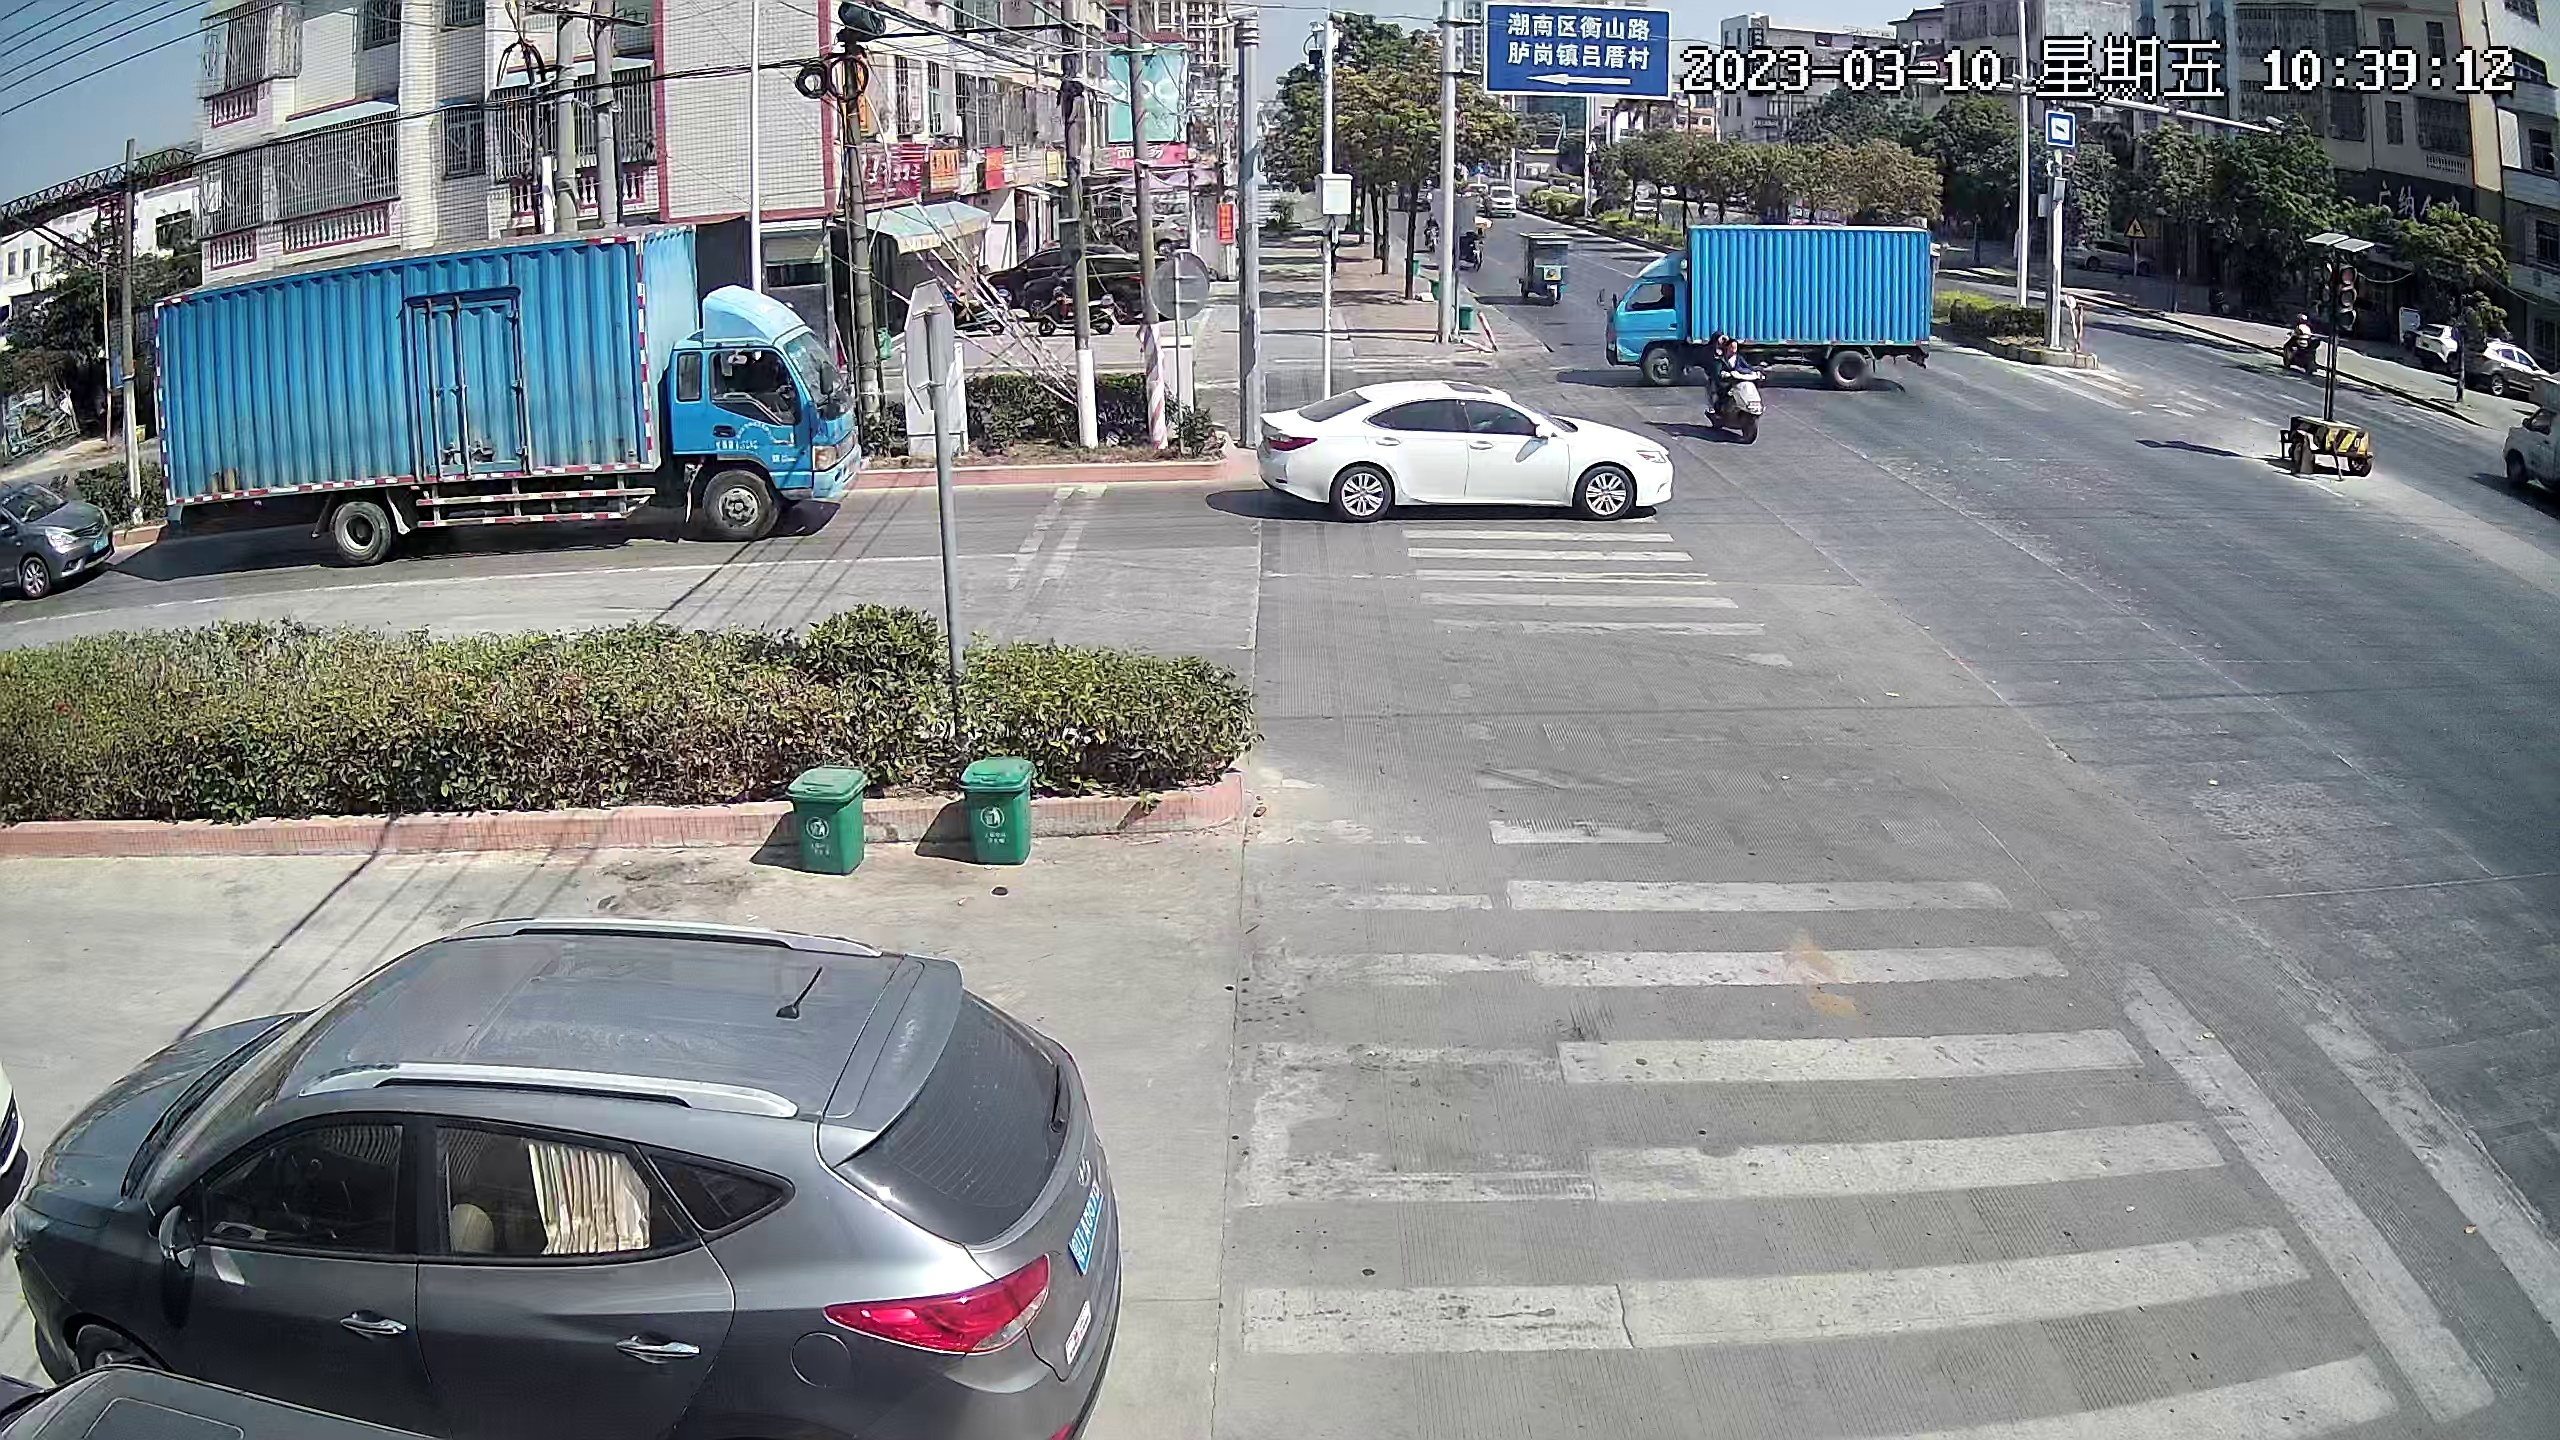motorcycle: (1714, 336, 1765, 443), (1043, 285, 1122, 343), (2289, 315, 2324, 378), (1414, 215, 1444, 257)
sedan: (1254, 383, 1665, 540), (2, 489, 114, 587), (1009, 243, 1139, 304), (2507, 397, 2560, 492), (2474, 338, 2535, 397), (2419, 313, 2460, 369)
suv: (47, 921, 1131, 1422)
tricycle: (1517, 220, 1577, 318)
truck: (155, 244, 872, 571), (1612, 222, 1938, 367)
